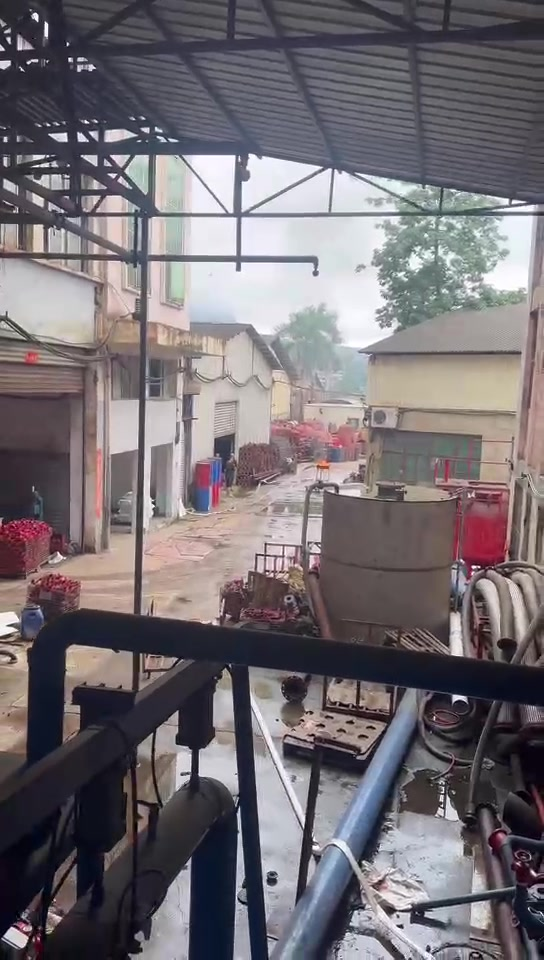fire: (316, 459, 329, 465)
